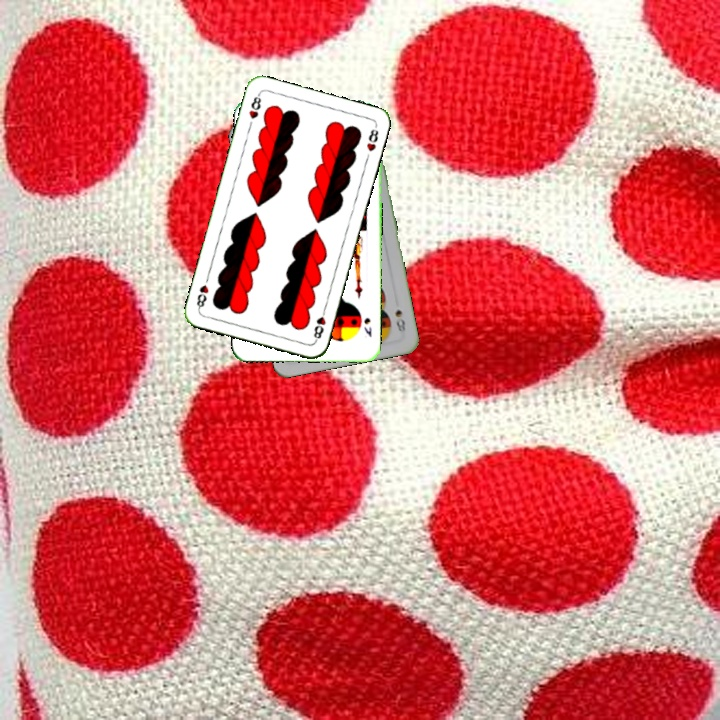H8: (310, 304, 328, 344), (245, 90, 264, 122)
S8: (391, 306, 408, 336)
SK: (360, 314, 374, 340)
